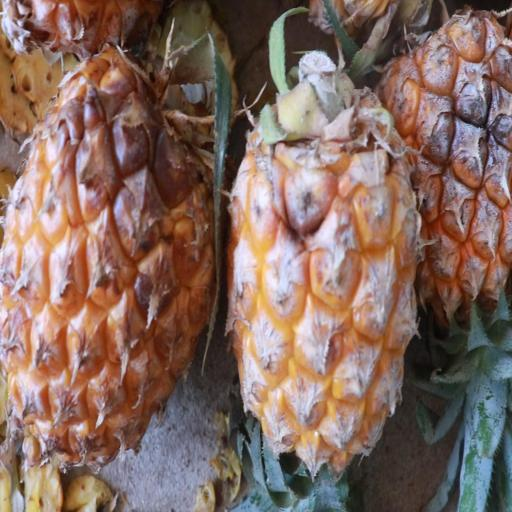Pineapple - v8 v1: (0, 56, 225, 512), (218, 48, 419, 512), (360, 0, 509, 385)
